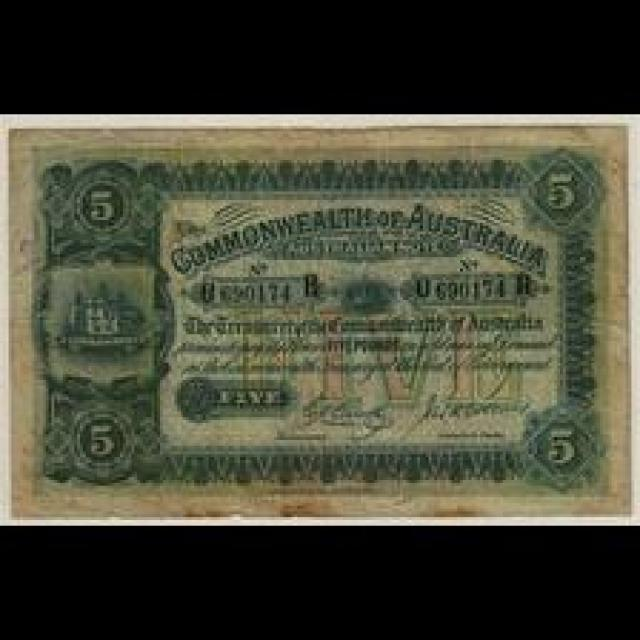banknote: (0, 111, 637, 526)
